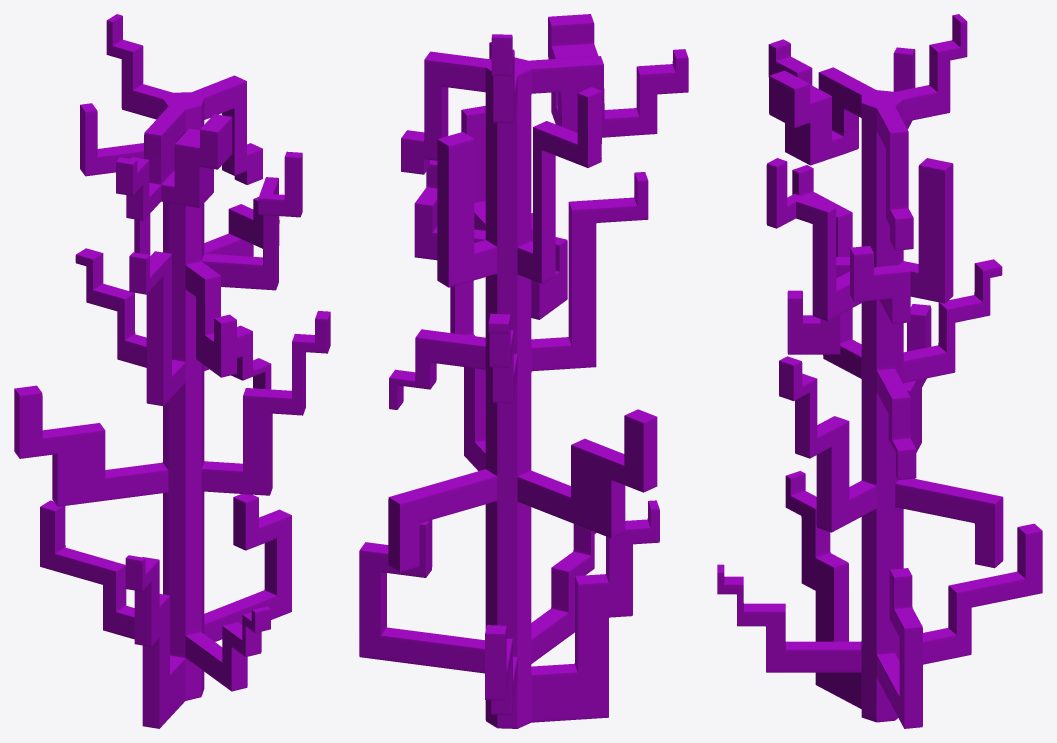
The model's file is seasponge001.fbx.
3 renders of one model, left to right at view 1: azimuth 30°, elevation 25°; view 2: azimuth 150°, elevation 25°; view 3: azimuth 270°, elevation 25°, orthographic. The views are drawn at different scales.
Visible parts, largest first — view 1: Cylinder; view 2: Cylinder; view 3: Cylinder.
Part boxes in pixels (box(x1,y1,x2,y2)): Cylinder: box(14, 14, 330, 728); Cylinder: box(359, 14, 688, 728); Cylinder: box(717, 14, 1042, 728).
Bounding box in the file's own units: 386 × 899 × 390.
